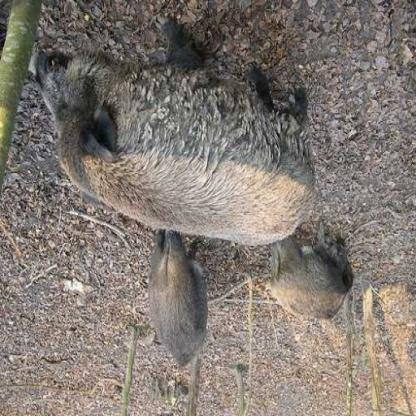boar: (0, 10, 413, 257), (102, 251, 241, 412), (256, 200, 410, 340)
